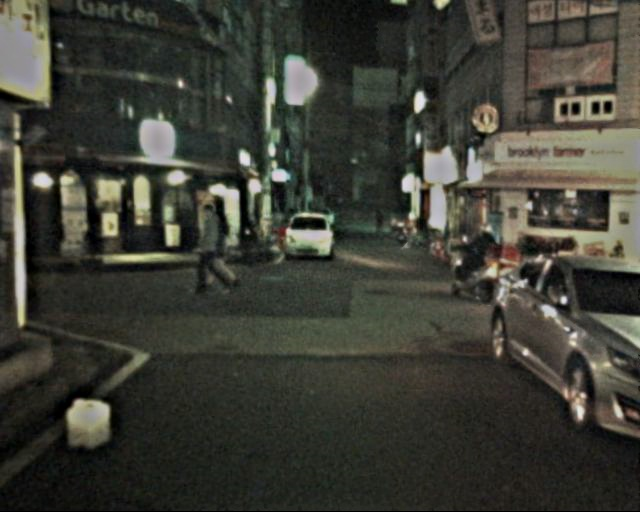person: (190, 202, 230, 299), (462, 222, 501, 305)
